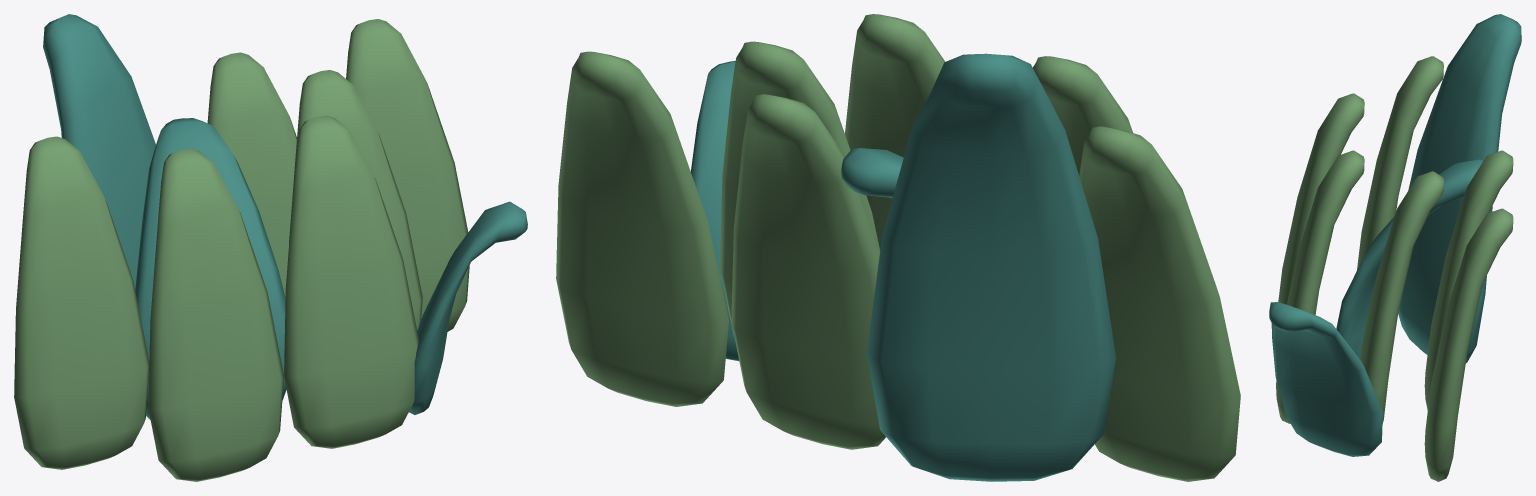
Rendered from grass4.fbx.
3 views of the same model, side by side, from view 1: azimuth 30°, elevation 25°; view 2: azimuth 150°, elevation 25°; view 3: azimuth 270°, elevation 25° (orthographic). The views are drawn at different scales.
Visible parts, largest first — view 1: grass4; view 2: grass4; view 3: grass4.
Part boxes in pixels (x1=…): grass4: x1=14, y1=14, x2=527, y2=481; grass4: x1=556, y1=14, x2=1240, y2=481; grass4: x1=1269, y1=14, x2=1521, y2=481.
Size of the model in its own units: 223 by 161 by 113.
